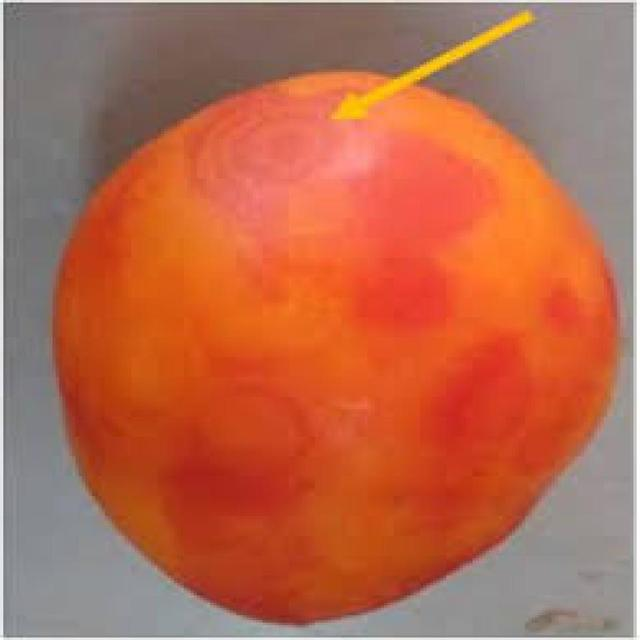Spotted wilt Virus Fruit: (39, 35, 74, 230)
